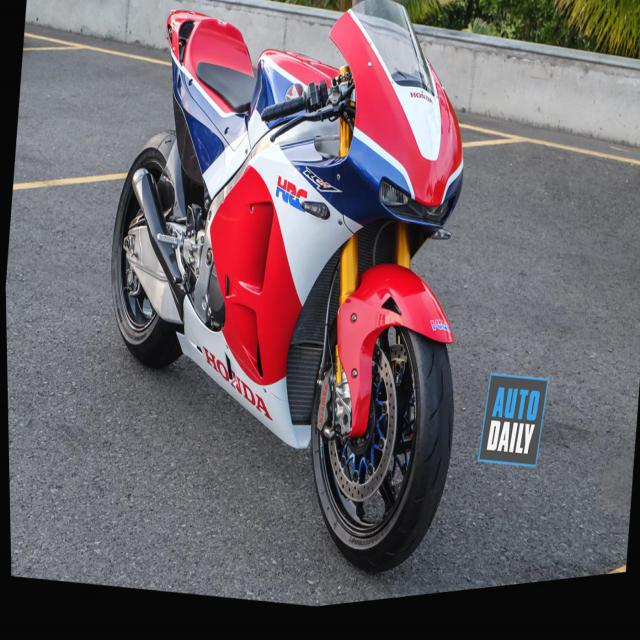HRC RCV 213: (78, 0, 493, 620)
